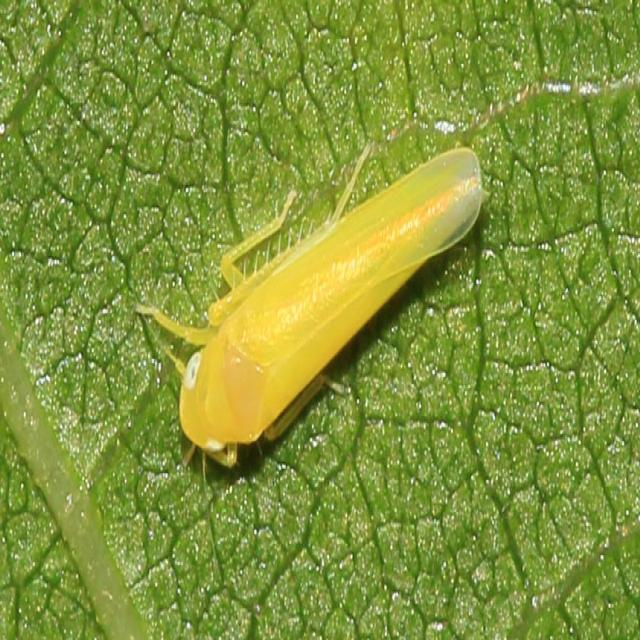Yechan: (138, 130, 485, 492)
